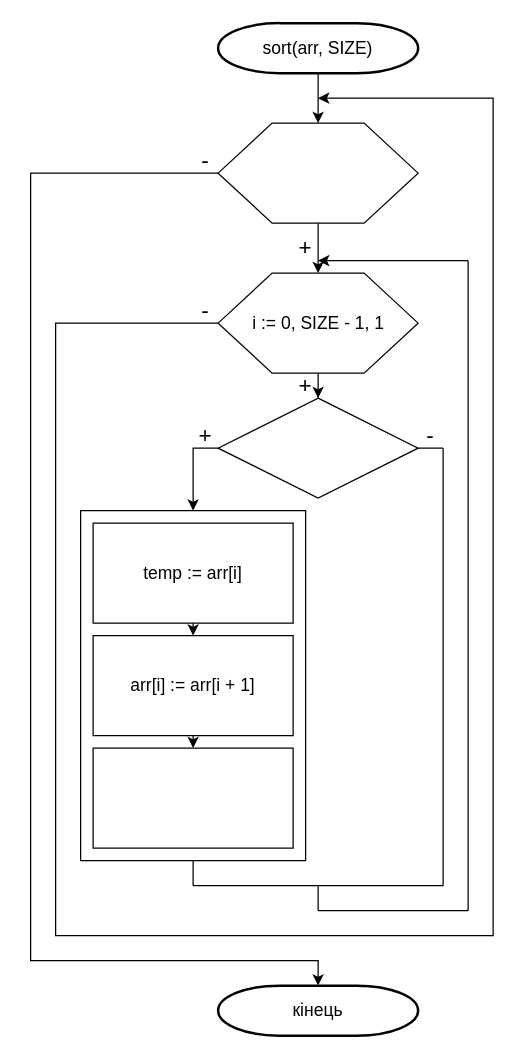
Image size: 525x1058. Some labels were removed from this diagram. Each missing label, with the centre of its shape:
"arr[i + 1] := temp" belongs at pixel 192 797.
"arr[i] > arr[i + 1]" belongs at pixel 317 447.
"u := 0, SIZE, 1" belongs at pixel 317 172.
